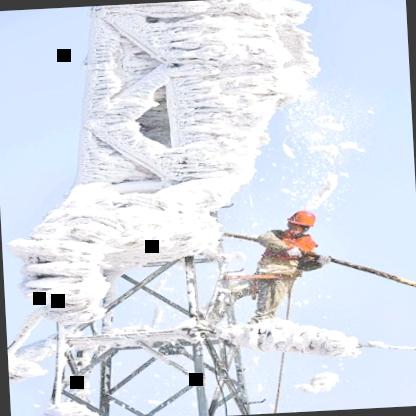helmet: (278, 206, 322, 234)
